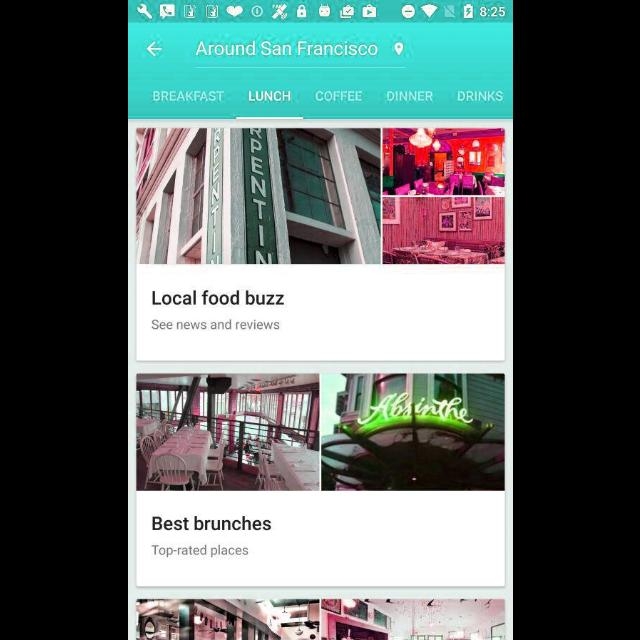icon: (146, 42, 162, 58), (393, 44, 402, 56)
image: (136, 129, 380, 265), (322, 374, 504, 491), (136, 374, 318, 491), (382, 128, 504, 196), (382, 198, 504, 264), (321, 598, 505, 640), (136, 598, 320, 640)
panel: (136, 128, 504, 362), (136, 373, 504, 587)
text: (195, 42, 377, 56), (152, 290, 284, 306), (152, 516, 270, 530), (151, 318, 279, 329), (150, 544, 248, 558), (152, 92, 224, 102), (456, 92, 502, 102), (386, 92, 432, 102), (314, 92, 362, 101), (248, 92, 290, 102)
uppertaskbar: (128, 1, 512, 23)
